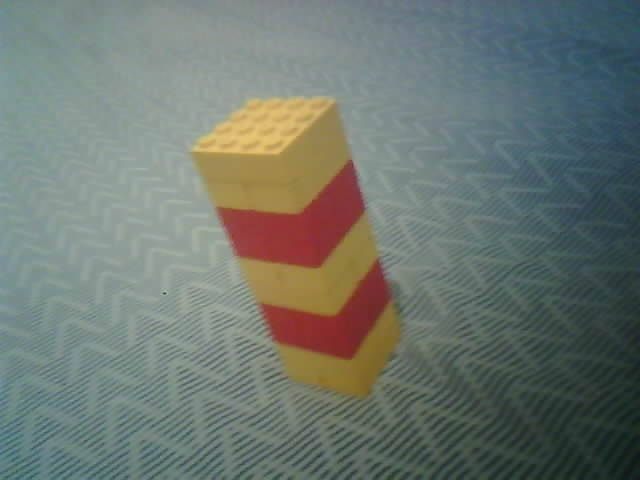lego: (189, 94, 402, 396)
